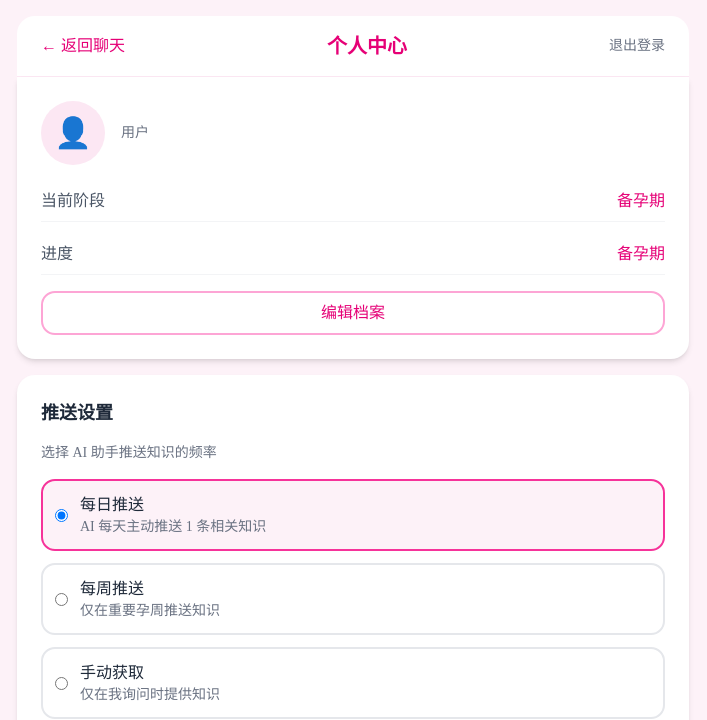
Test: ProfilePage › 编辑模式 › 点击"编辑档案"按钮显示表单
Click the button "编辑档案" at (353, 313), box [41,291,665,335]
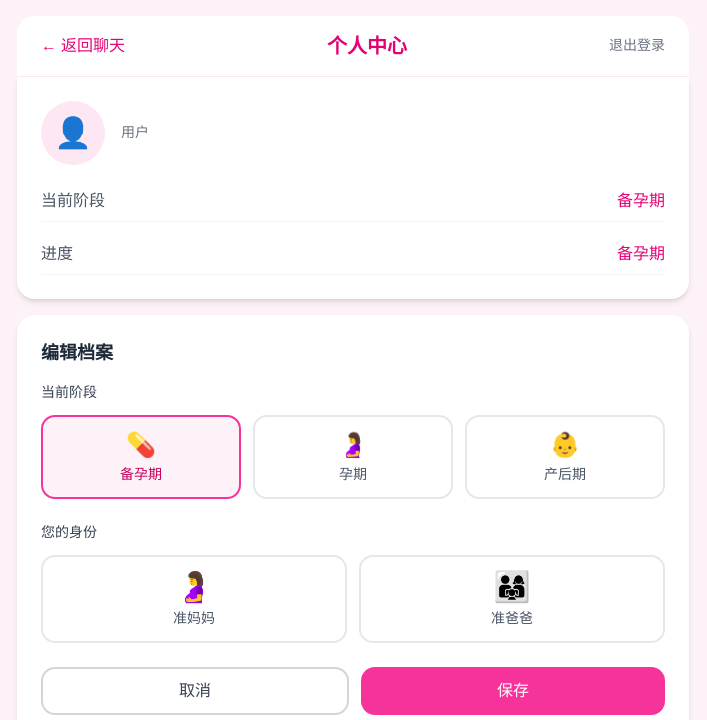
expect the text "孕期" is shown: met, box [339,467,367,482]
expect the text "产后期" is shown: met, box [544,467,586,482]
expect the button "保存" is shown: met, box [361,667,665,715]
